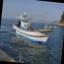fishing boat: (10, 6, 59, 48)
